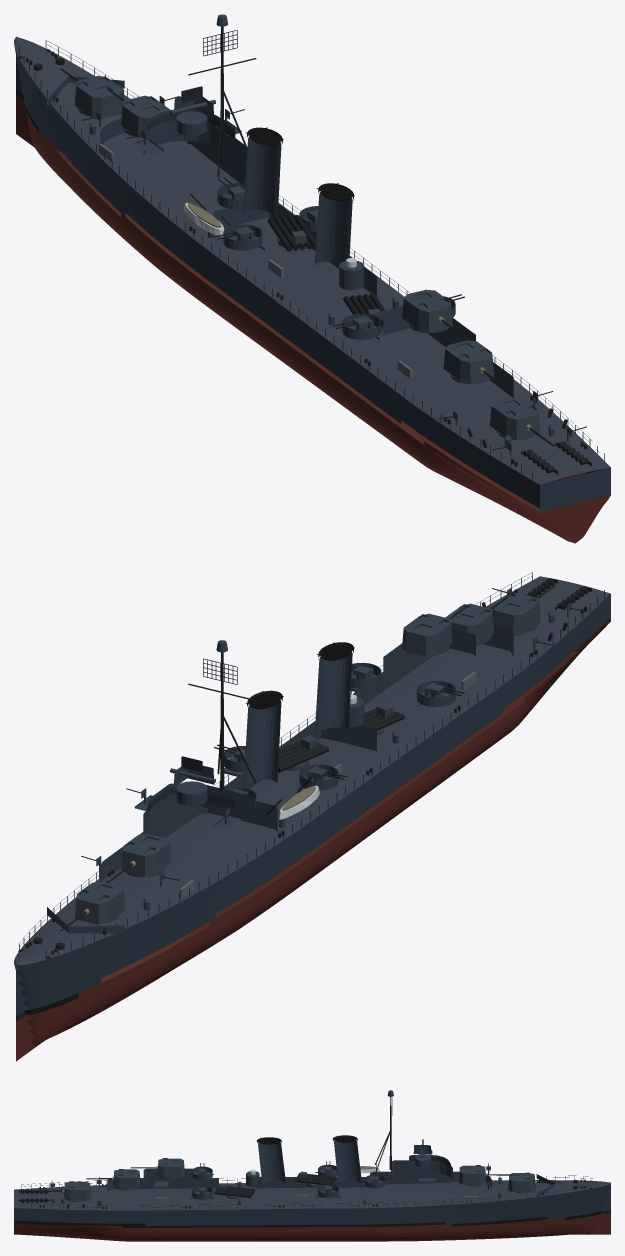
Rendered from fletcher_m21.glb.
3 views of the same model, one above another, from view 1: azimuth 30°, elevation 25°; view 2: azimuth 150°, elevation 25°; view 3: azimuth 270°, elevation 25° (orthographic). The views are drawn at different scales.
Visible parts, largest first — view 1: Hull, Mount53, Mount54, Mount55, Mount51, Mount52, Torpedo1, Director, Torpedo2; view 2: Hull, Mount52, Mount53, Mount51, Mount55, Mount54, Torpedo1, Director, Torpedo2; view 3: Hull, Mount53, Mount54, Mount52, Mount55, Mount51, Torpedo1, Torpedo2.
Boxes of the visible parts, left/top/right/bottom form: Hull: left=14, top=14, right=610, bottom=543; Mount53: left=402, top=289, right=466, bottom=338; Mount54: left=443, top=340, right=508, bottom=389; Mount55: left=490, top=397, right=554, bottom=446; Mount51: left=60, top=68, right=124, bottom=118; Mount52: left=107, top=88, right=169, bottom=138; Torpedo1: left=267, top=215, right=315, bottom=251; Director: left=170, top=86, right=215, bottom=120; Torpedo2: left=343, top=293, right=385, bottom=326; Hull: left=14, top=572, right=610, bottom=1061; Mount52: left=107, top=834, right=171, bottom=883; Mount53: left=402, top=606, right=466, bottom=656; Mount51: left=60, top=882, right=125, bottom=930; Mount55: left=491, top=585, right=554, bottom=635; Mount54: left=445, top=596, right=508, bottom=645; Torpedo1: left=278, top=735, right=329, bottom=772; Director: left=170, top=756, right=215, bottom=787; Torpedo2: left=359, top=703, right=404, bottom=735; Hull: left=14, top=1090, right=610, bottom=1241; Mount53: left=130, top=1158, right=184, bottom=1179; Mount54: left=86, top=1169, right=140, bottom=1190; Mount52: left=459, top=1165, right=512, bottom=1186; Mount55: left=37, top=1181, right=90, bottom=1201; Mount51: left=508, top=1172, right=562, bottom=1193; Torpedo1: left=295, top=1171, right=335, bottom=1187; Torpedo2: left=214, top=1184, right=254, bottom=1198.
Size of the model in its own units: 15.4 by 30.38 by 115.
